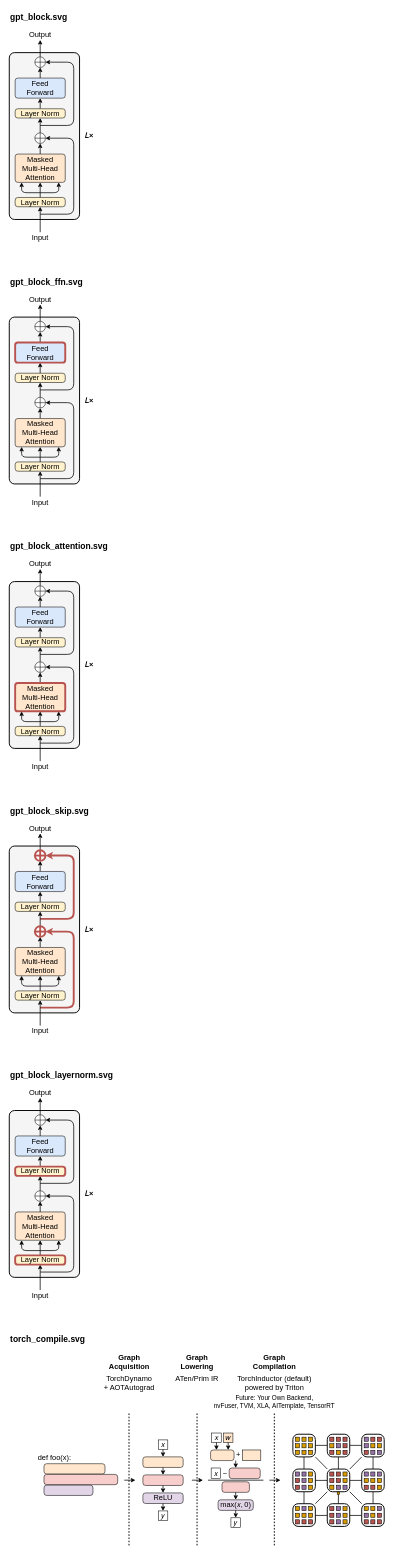
Image size: 394x1556. Some labels were removed from this diagram. The shapes that lost their labels are listed below. From the top down, each one's box as (x1, y1, x2, y2) in pixels, then its label:
(43, 1463, 105, 1474): y = F.conv2d(x, ...)
(142, 1456, 183, 1467): Conv2d
(210, 1449, 234, 1461): Conv
(229, 1467, 260, 1479): mean(𝑥)
(242, 1449, 261, 1461): bias
(43, 1485, 93, 1495): return F.relu(z)
(43, 1474, 118, 1485): z = F.batch_norm(y, ...)
(142, 1474, 183, 1485): BatchNorm
(221, 1481, 249, 1492): stdv(𝑥)
